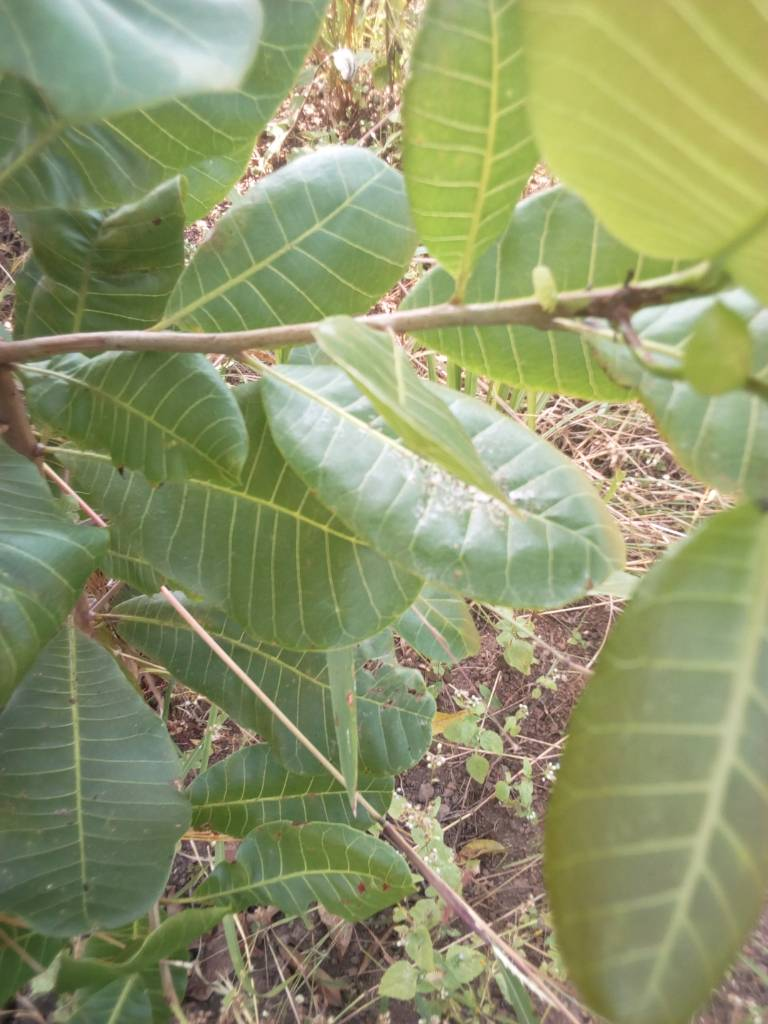Oidium: (254, 342, 638, 622)
